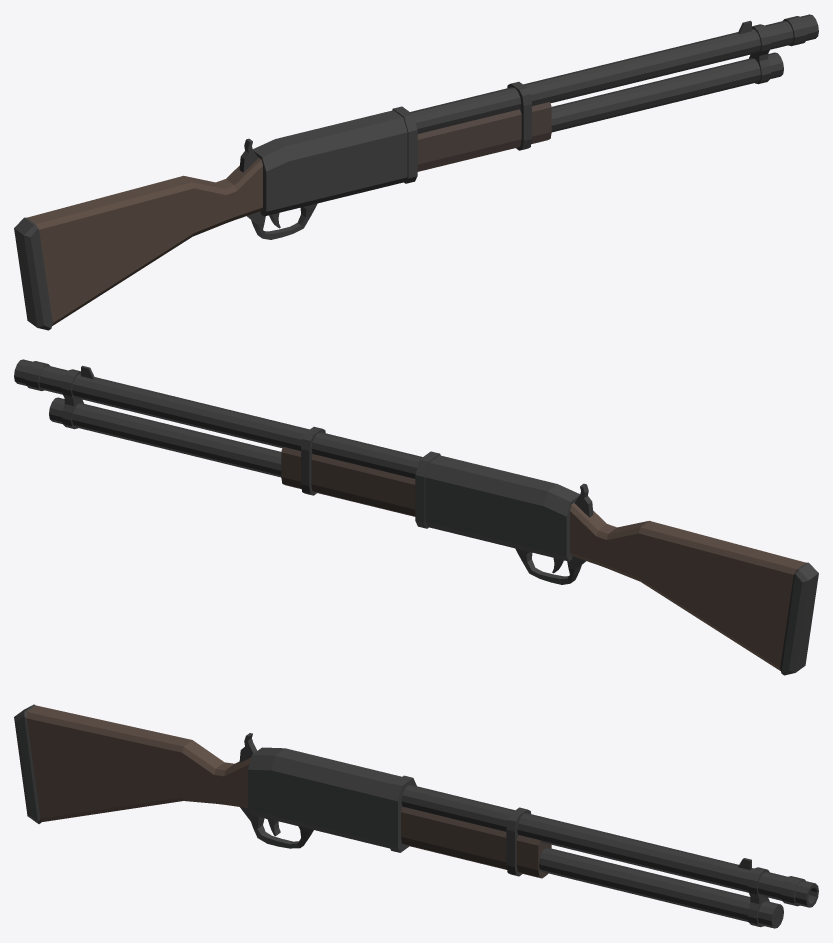
File: Shotgun_2.glb
3 renders of one model, top to bottom at view 1: azimuth 30°, elevation 25°; view 2: azimuth 150°, elevation 25°; view 3: azimuth 330°, elevation 25°, orthographic.
Visible parts, largest first — view 1: Shotgun_2; view 2: Shotgun_2; view 3: Shotgun_2.
Boxes of the visible parts, x1=… form: Shotgun_2: x1=14, y1=14, x2=818, y2=330; Shotgun_2: x1=14, y1=359, x2=818, y2=675; Shotgun_2: x1=14, y1=704, x2=818, y2=928.
Bounding box in the file's own units: 5.78 × 0.9495 × 0.2465.
